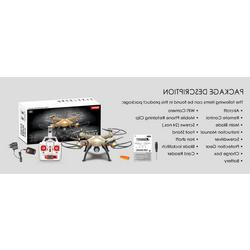drone: (61, 127, 132, 162), (46, 112, 85, 134)
